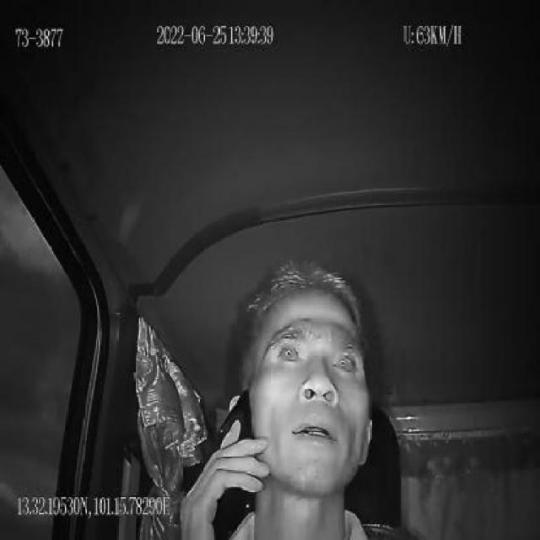phone: (211, 385, 256, 540)
